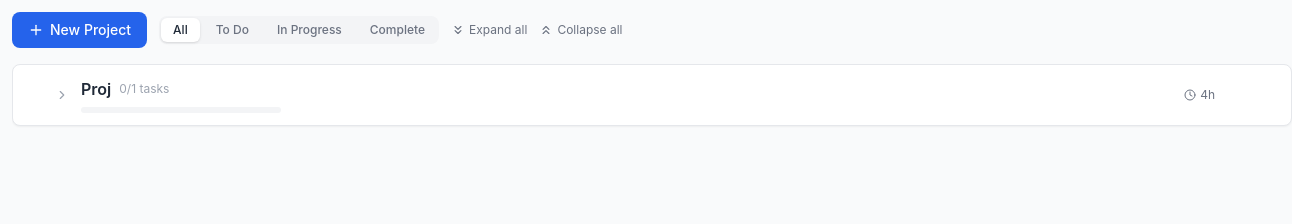
TasksView › expands project to show todos
This screenshot has width=1292, height=224.
Step 1. Click the text "Proj" → (96, 89), box 81,77 -> 111,101
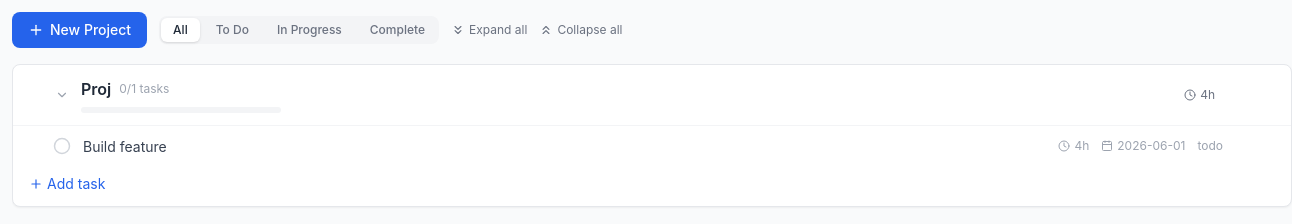
Expected: the text "Build feature" is shown, 83,138 -> 167,155
Expected: the button "Add task" is shown, 29,166 -> 105,194
